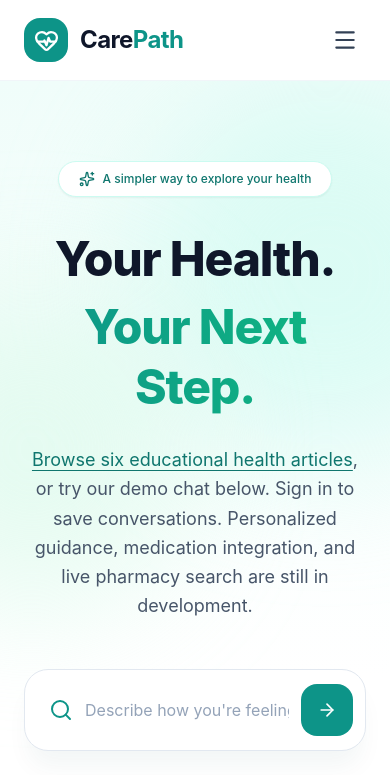
Test: Health Library integration › opens the library from the mobile menu and closes the menu
The image size is (390, 775).
Click the button named "Open menu" at (345, 40), box left=324, top=19, right=366, bottom=61
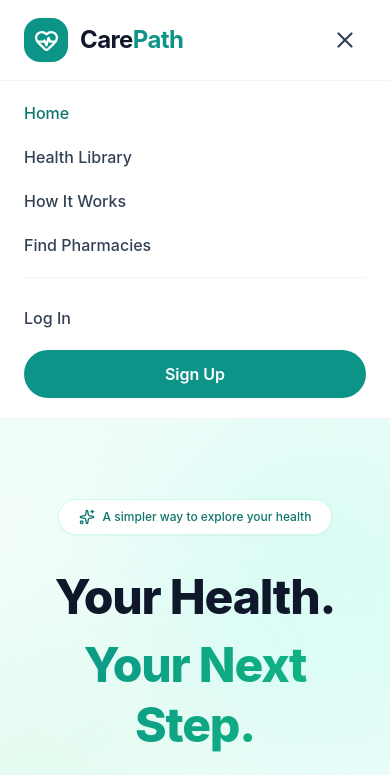
Click the link "Health Library" at (78, 157), box left=24, top=147, right=132, bottom=167
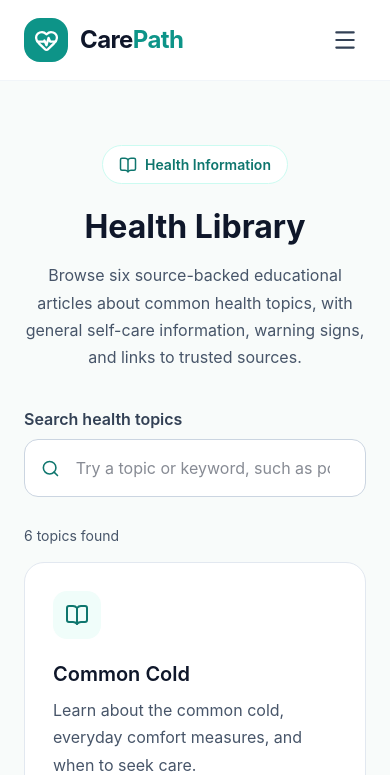
expect the heading "Health Library" is shown: met, box left=84, top=207, right=306, bottom=246
expect the button named "Open menu" is collapsed: met, box left=324, top=19, right=366, bottom=61
